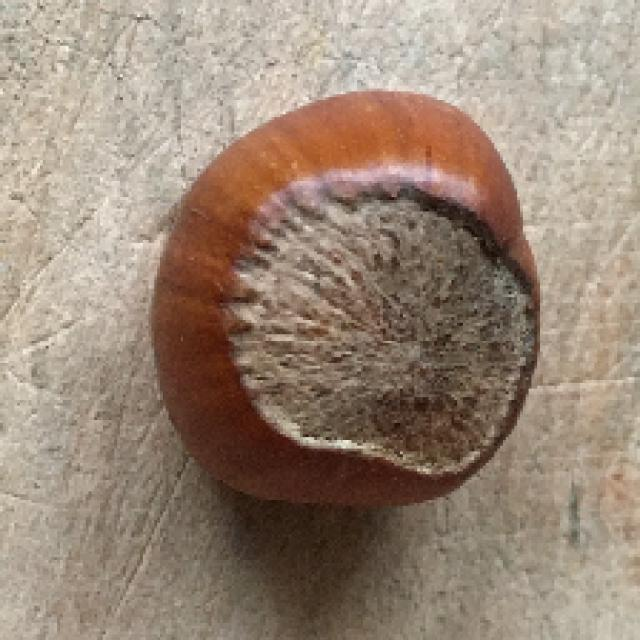qualityHazelnut: (150, 88, 542, 520)
